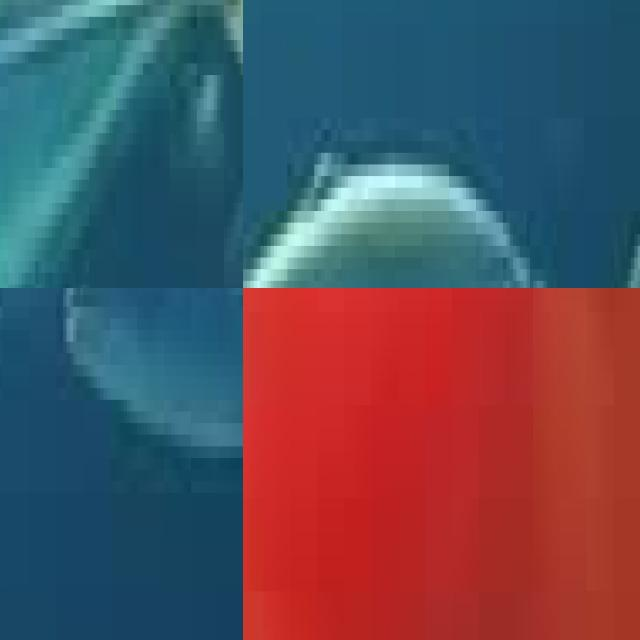fish: (0, 0, 243, 288), (70, 288, 243, 458)
